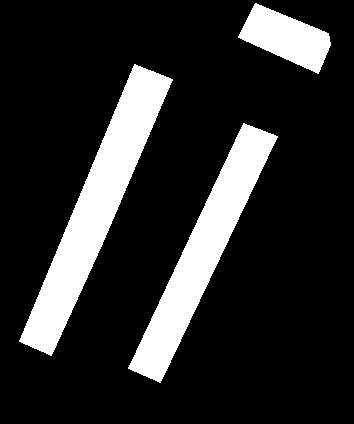parkingspot: (19, 64, 172, 355), (128, 123, 277, 382), (238, 3, 330, 73)
